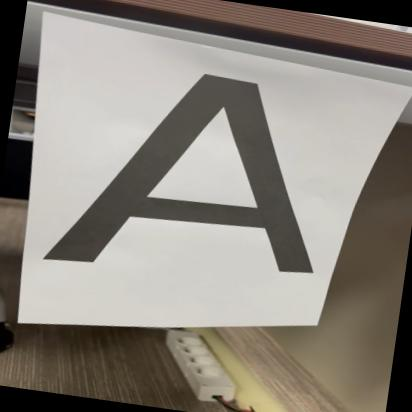seat: (40, 47, 352, 323)
